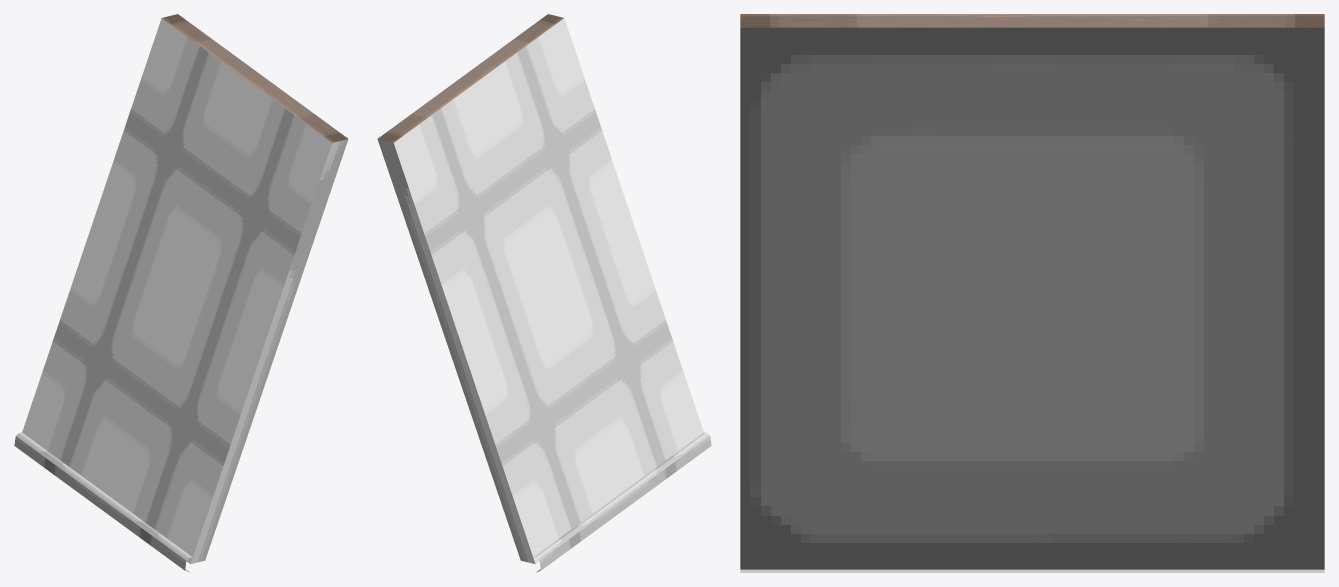
Rendered from SM_RoofChurchKeep.fbx.
3 views of the same model, side by side, from view 1: azimuth 30°, elevation 25°; view 2: azimuth 150°, elevation 25°; view 3: azimuth 270°, elevation 25° (orthographic). The views are drawn at different scales.
Parts seen in each view (by area): view 1: SM_RoofChurchKeep; view 2: SM_RoofChurchKeep; view 3: SM_RoofChurchKeep.
Part boxes in pixels (x1,y1,x2,y2): SM_RoofChurchKeep: (14,14,348,572); SM_RoofChurchKeep: (377,14,711,572); SM_RoofChurchKeep: (740,14,1324,572).
Bounding box in the file's own units: 553 × 1000 × 1279.
